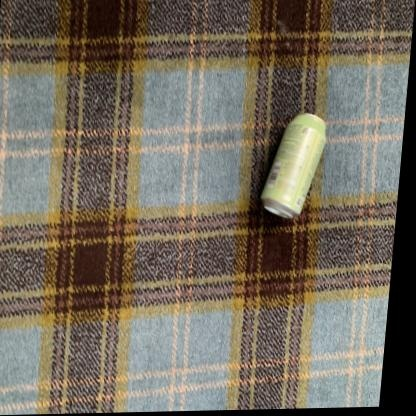trash: (261, 113, 325, 217)
